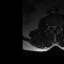CCS_normal: (53, 23, 55, 32)
LFS_stenosis: (57, 23, 59, 28)
LLS_normal: (55, 23, 57, 30)
RFS_stenosis: (50, 23, 51, 29)
RLS_normal: (51, 23, 53, 30)
